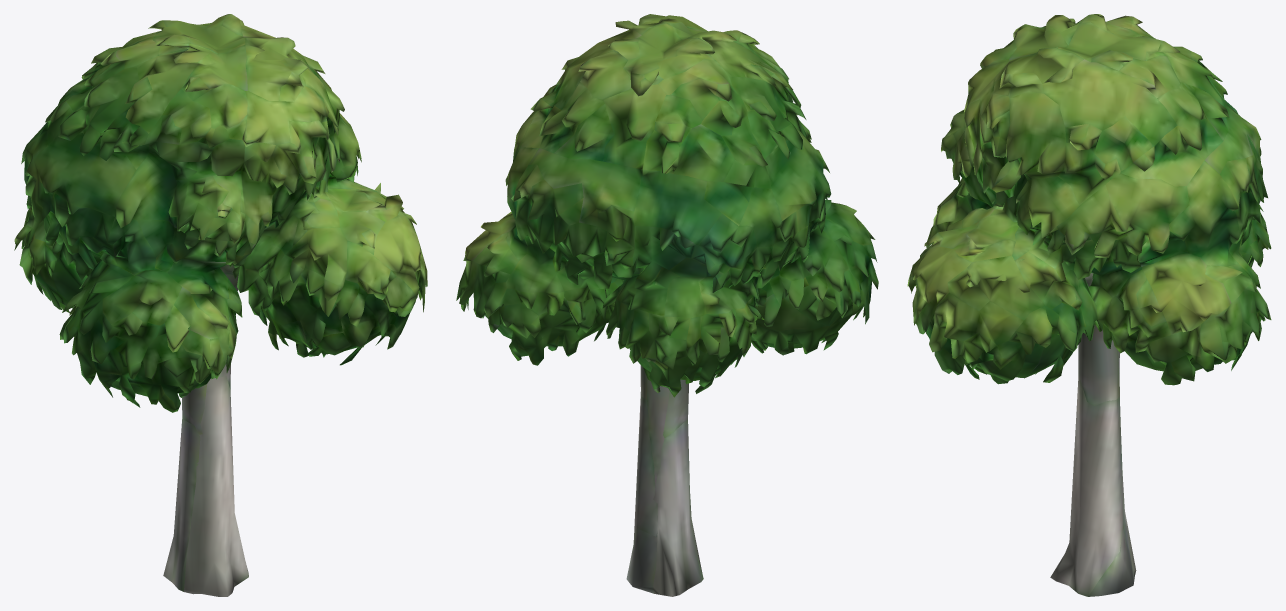
The model's file is beech.glb.
3 renders of one model, left to right at view 1: azimuth 30°, elevation 25°; view 2: azimuth 150°, elevation 25°; view 3: azimuth 270°, elevation 25°, orthographic.
Bounding box in the file's own units: 1.19 × 1.9 × 1.15.
Materials: 1 (1 with a texture image).
